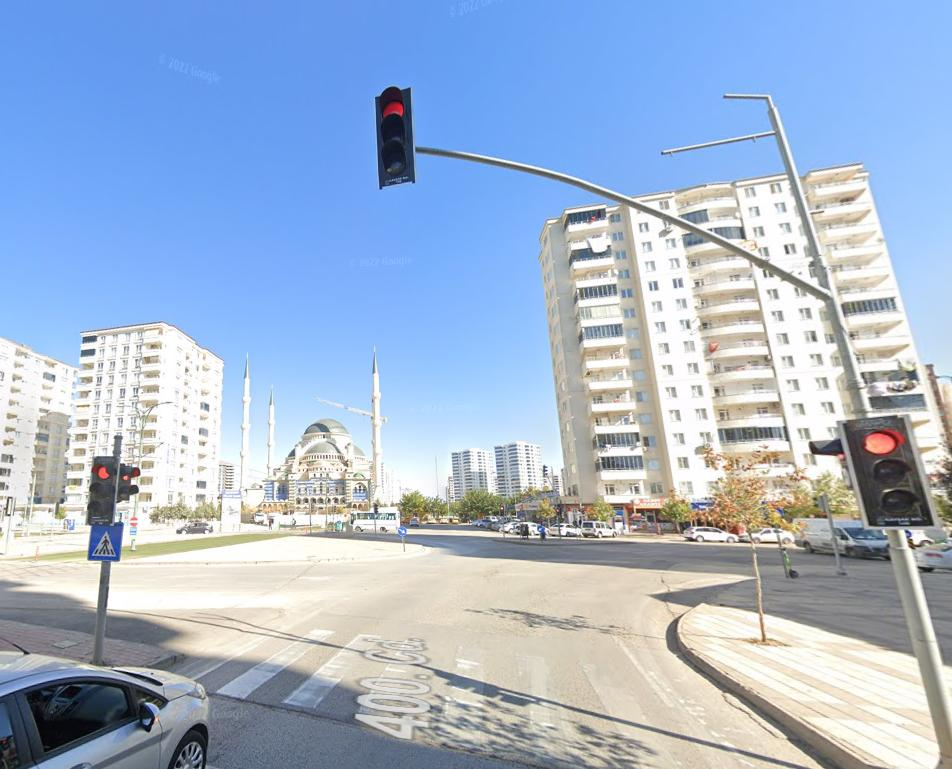redlight: (848, 418, 922, 520), (374, 87, 415, 192), (88, 459, 116, 520)
